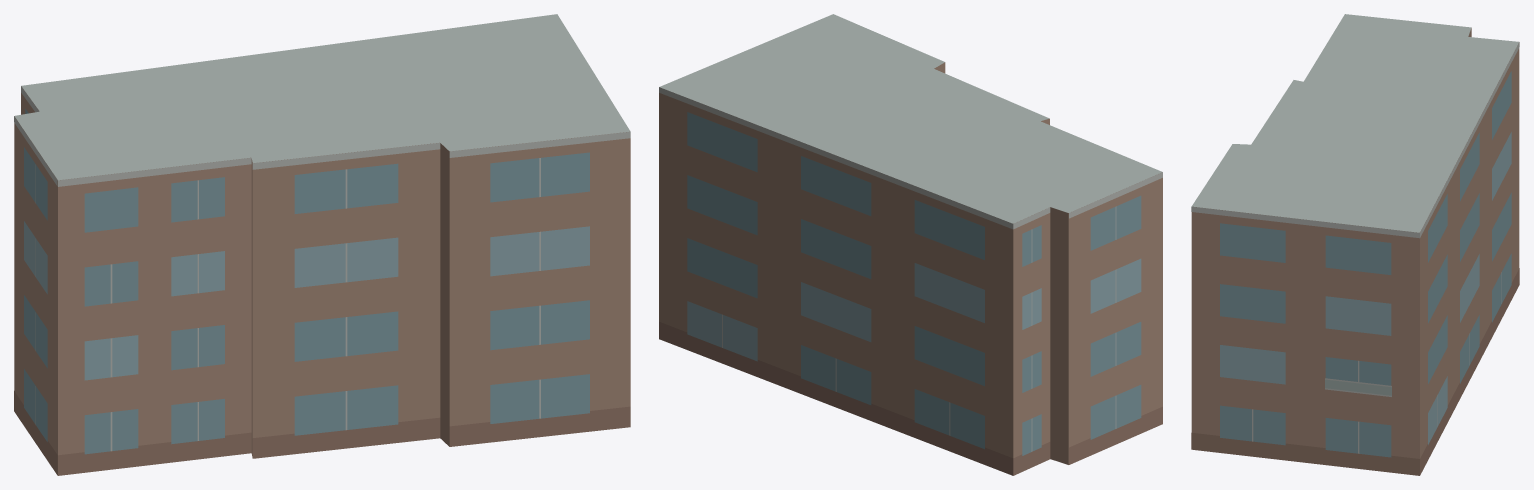
The model's file is survey-upis-33002256.glb.
The picture shows the model from 3 angles, left to right: view 1: azimuth 30°, elevation 25°; view 2: azimuth 150°, elevation 25°; view 3: azimuth 270°, elevation 25°; orthographic projection. The views are drawn at different scales.
Parts seen in each view (by area): view 1: survey-upis-33002256.tmp; view 2: survey-upis-33002256.tmp; view 3: survey-upis-33002256.tmp.
Boxes of the visible parts, left/top/right/bottom form: survey-upis-33002256.tmp: left=14, top=14, right=630, bottom=475; survey-upis-33002256.tmp: left=659, top=14, right=1162, bottom=475; survey-upis-33002256.tmp: left=1191, top=14, right=1519, bottom=475.
Bounding box in the file's own units: 21.05 × 10.9 × 13.34.
